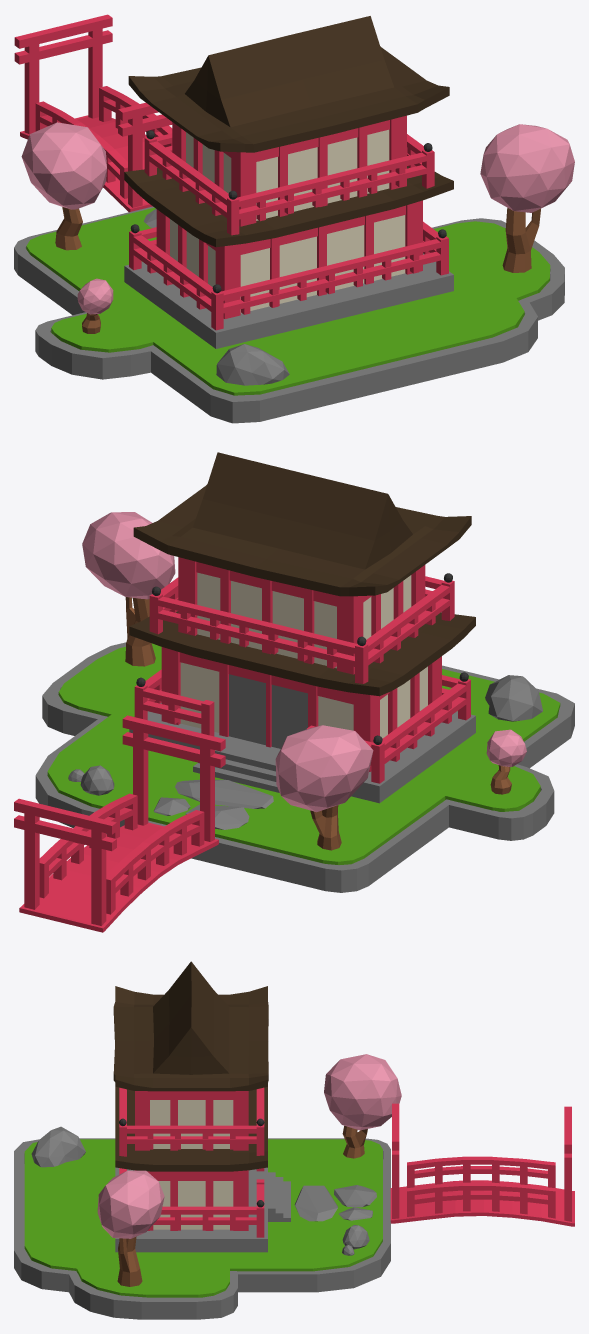
The model's file is TempleCleaner02.fbx.
The picture shows the model from 3 angles, top to bottom: view 1: azimuth 30°, elevation 25°; view 2: azimuth 150°, elevation 25°; view 3: azimuth 270°, elevation 25°; orthographic projection. The views are drawn at different scales.
Parts seen in each view (by area): view 1: Cube.001, Roof, Cube.017, Cube.004, Cube.010, UpperRailingOuter.003, UpperRailingOuter, TreeTop01, LowerMain, TreeTop03, UpperMain, Cube.018 (+17 smaller); view 2: Roof, Cube.001, Cube.017, Cube.010, UpperRailingOuter, Cube.004, TreeTop03, UpperRailingOuter.002, Cube.006, UpperRailingOuter.003, TreeTop01, UpperMain (+20 smaller); view 3: Cube.001, Roof, Cube.017, UpperRailingOuter.002, Cube.004, Cube.010, TreeTop03, TreeTop01, Cube.006, UpperRailingOuter, UpperMain, UpperRailingOuter.003 (+15 smaller).
Boxes of the visible parts, x1,y1,x2,y2 form: Cube.001: [26, 207, 550, 395]; Roof: [128, 16, 449, 152]; Cube.017: [14, 206, 564, 423]; Cube.004: [124, 253, 453, 348]; Cube.010: [124, 166, 453, 247]; UpperRailingOuter.003: [129, 221, 448, 330]; UpperRailingOuter: [144, 133, 434, 235]; TreeTop01: [480, 124, 574, 212]; LowerMain: [170, 215, 405, 313]; TreeTop03: [21, 122, 106, 209]; UpperMain: [186, 129, 389, 220]; Cube.018: [14, 14, 112, 133]; Roof: [133, 452, 471, 596]; Cube.001: [47, 643, 560, 864]; Cube.017: [35, 642, 574, 892]; Cube.010: [129, 611, 475, 696]; UpperRailingOuter: [149, 576, 454, 683]; Cube.004: [129, 703, 475, 803]; TreeTop03: [275, 725, 373, 812]; UpperRailingOuter.002: [39, 793, 204, 914]; Cube.006: [19, 822, 218, 932]; UpperRailingOuter.003: [134, 669, 470, 783]; TreeTop01: [82, 512, 175, 599]; UpperMain: [197, 572, 411, 668]; Cube.001: [24, 1139, 382, 1297]; Roof: [113, 961, 268, 1091]; Cube.017: [14, 1138, 390, 1319]; UpperRailingOuter.002: [407, 1156, 555, 1218]; Cube.004: [115, 1167, 290, 1252]; Cube.010: [115, 1086, 267, 1171]; TreeTop03: [324, 1054, 401, 1130]; TreeTop01: [97, 1170, 164, 1238]; Cube.006: [390, 1180, 574, 1226]; UpperRailingOuter: [119, 1087, 264, 1156]; UpperMain: [150, 1100, 233, 1148]; UpperRailingOuter.003: [119, 1168, 264, 1237].
Size of the model in its own units: 1205 by 664 by 1467.
